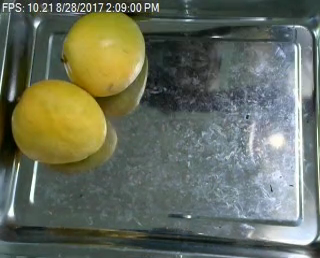Mango: (12, 79, 106, 161), (60, 11, 144, 97)
